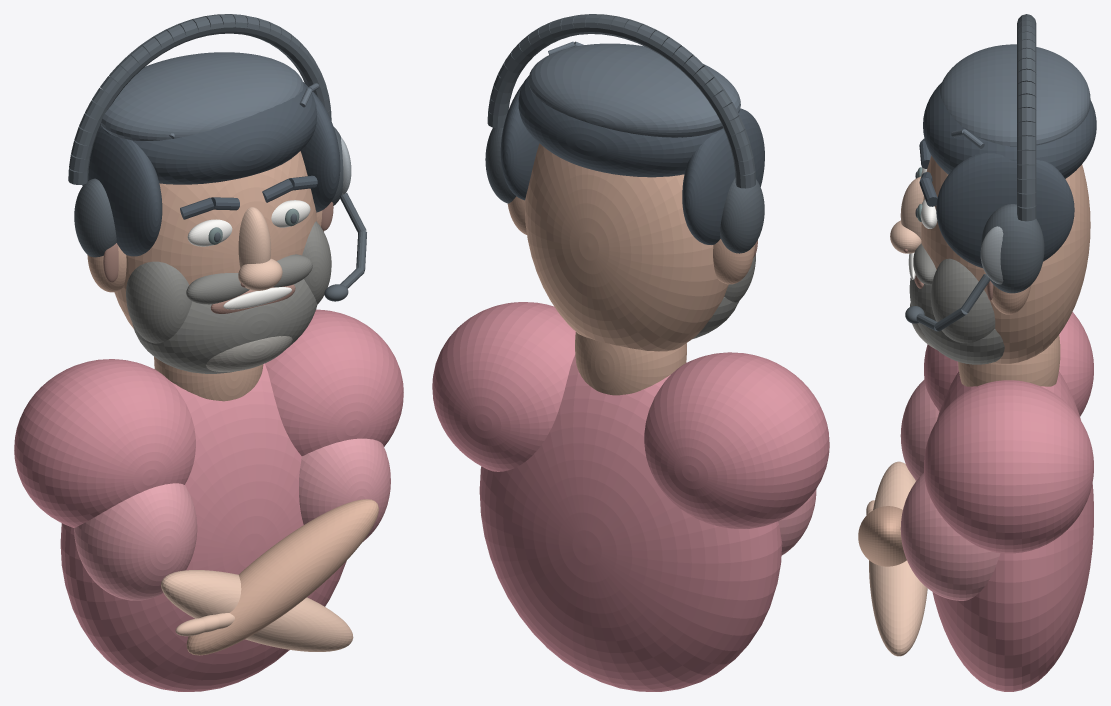
Rendered from teleman_3d.glb.
The picture shows the model from 3 angles, left to right: view 1: azimuth 30°, elevation 25°; view 2: azimuth 150°, elevation 25°; view 3: azimuth 270°, elevation 25°; orthographic projection. The views are drawn at different scales.
Visible parts, largest first — view 1: shirt torso, shirt left shoulder, shirt right shoulder, hair swept top, right crossed forearm, left upper sleeve, face, hair cap, beard jaw, left crossed forearm, hair side left, right upper sleeve (+14 smaller); view 2: shirt torso, face, shirt left shoulder, shirt right shoulder, hair swept top, hair cap, hair side left, neck, headset left cup, hair side right, left ear, headset right cup (+2 smaller); view 3: shirt right shoulder, shirt torso, hair swept top, face, hair side right, right upper sleeve, left crossed forearm, hair cap, shirt left shoulder, beard right cheek, headset right cup, neck (+9 smaller).
Boxes of the visible parts, x1,y1,x2,y2 form: shirt torso: (60, 363, 346, 691); shirt left shoulder: (14, 359, 195, 527); shirt right shoulder: (265, 309, 403, 455); hair swept top: (101, 52, 303, 140); right crossed forearm: (186, 499, 378, 655); left upper sleeve: (74, 483, 197, 600); face: (114, 151, 316, 328); hair cap: (102, 82, 317, 184); beard jaw: (132, 279, 317, 373); left crossed forearm: (161, 570, 353, 651); hair side left: (82, 125, 162, 256); right upper sleeve: (299, 438, 390, 541); shirt torso: (479, 355, 782, 691); face: (524, 143, 728, 351); shirt left shoulder: (644, 352, 829, 528); shirt right shoulder: (432, 302, 575, 471); hair swept top: (528, 43, 740, 137); hair cap: (518, 75, 723, 177); hair side left: (682, 108, 764, 244); neck: (575, 332, 686, 395); headset left cup: (720, 178, 764, 253); hair side right: (500, 84, 539, 200); left ear: (713, 239, 754, 284); headset right cup: (485, 127, 516, 203); shirt right shoulder: (924, 380, 1093, 553); shirt torso: (932, 371, 1093, 691); hair swept top: (940, 44, 1090, 146); face: (921, 155, 1090, 363); hair side right: (936, 153, 1074, 267); right upper sleeve: (900, 473, 1000, 600); left crossed forearm: (869, 461, 927, 656); hair cap: (923, 82, 1096, 178); shirt left shoulder: (924, 312, 1093, 416); beard right cheek: (931, 258, 995, 343); headset right cup: (980, 204, 1044, 293); neck: (958, 335, 1060, 386).
Bounding box in the file's own units: 2.36 × 4.04 × 1.35.
